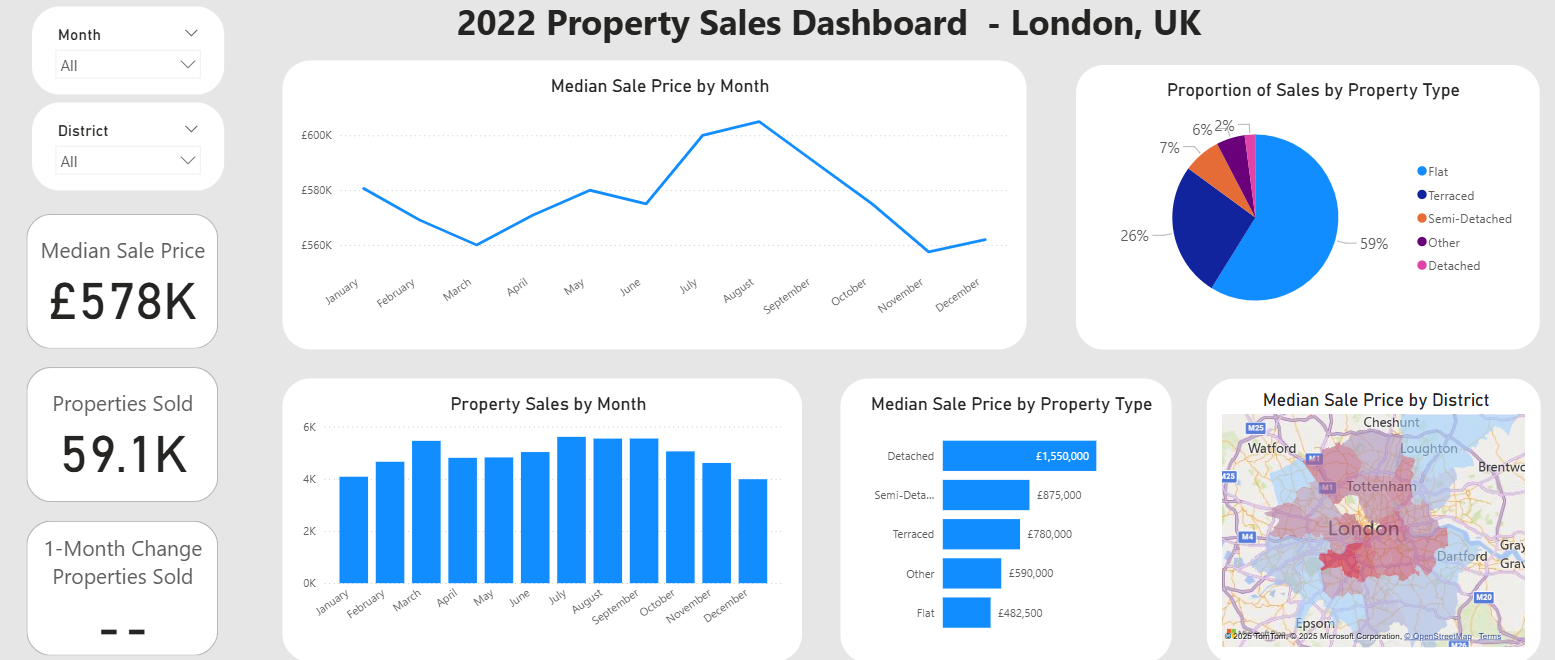

Layout of this report page (visuals, bound fields, positions):
{"tool":"powerbi","page":{"name":"Dashboard","canvas":[1680,720],"ordinal":0},"visuals":[{"type":"lineChart","title":"Median Sale Price by Month","fields":{"Category":["Housing Data (2022).Purchase Date.Variation.Date Hierarchy.Month"],"Y":["Median(Housing Data (2022).Price)"]},"box":[304.4,72.9,799.9,310.9],"z":0},{"type":"pieChart","title":"Proportion of Sales by Property Type","fields":{"Category":["Housing Data (2022).Property Type"],"Y":["CountNonNull(Housing Data (2022).Property Type)"]},"box":[1157.7,77.7,498.7,306],"z":1000},{"type":"columnChart","title":"Property Sales by Month","fields":{"Category":["Housing Data (2022).Purchase Date.Variation.Date Hierarchy.Month"],"Y":["CountNonNull(Housing Data (2022).Transaction ID)"]},"box":[304.7,414.3,558.6,304.4],"z":2000},{"type":"slicer","title":"Median Sale Price by  District","fields":{"Values":["Housing Data (2022).Purchase Date.Variation.Date Hierarchy.Month"]},"box":[35.5,15.2,206.3,94.7],"z":3000},{"type":"clusteredBarChart","title":"Median Sale Price by Property Type","fields":{"Category":["Housing Data (2022).Property Type"],"Y":["Median(Housing Data (2022).Price)"]},"box":[905.1,414.5,356.2,306],"z":4000},{"type":"cardVisual","fields":{"Data":["Median(Housing Data (2022).Price)","CountNonNull(Housing Data (2022).Transaction ID)","Housing Data (2022).MoM Change (%)"]},"box":[24.3,231.5,217,485.8],"z":5000},{"type":"textbox","box":[487.1,0,857.5,62.6],"z":6000},{"type":"filledMap","title":"Median Sale Price by District","fields":{"Category":["Housing Data (2022).District"]},"box":[1298.6,414.5,359.5,306],"z":7000},{"type":"slicer","title":"Median Sale Price by  District","fields":{"Values":["Housing Data (2022).District"]},"box":[35.5,118.4,206.3,94.7],"z":8000}]}

Visuals, with their boxes in screenshot pixels (x1, y1, x2, y2), scaled from the page's 1680x720 canvas onto the 1555x660 screenshot:
"Median Sale Price by Month" lineChart: 282,67,1022,352
"Proportion of Sales by Property Type" pieChart: 1072,71,1533,352
"Property Sales by Month" columnChart: 282,380,799,659
"Median Sale Price by  District" slicer: 33,14,224,101
"Median Sale Price by Property Type" clusteredBarChart: 838,380,1167,659
cardVisual - Median(Housing Data (2022).Price) x CountNonNull(Housing Data (2022).Transaction ID): 22,212,223,658
textbox: 451,0,1245,57
"Median Sale Price by District" filledMap: 1202,380,1535,659
"Median Sale Price by  District" slicer: 33,109,224,195
